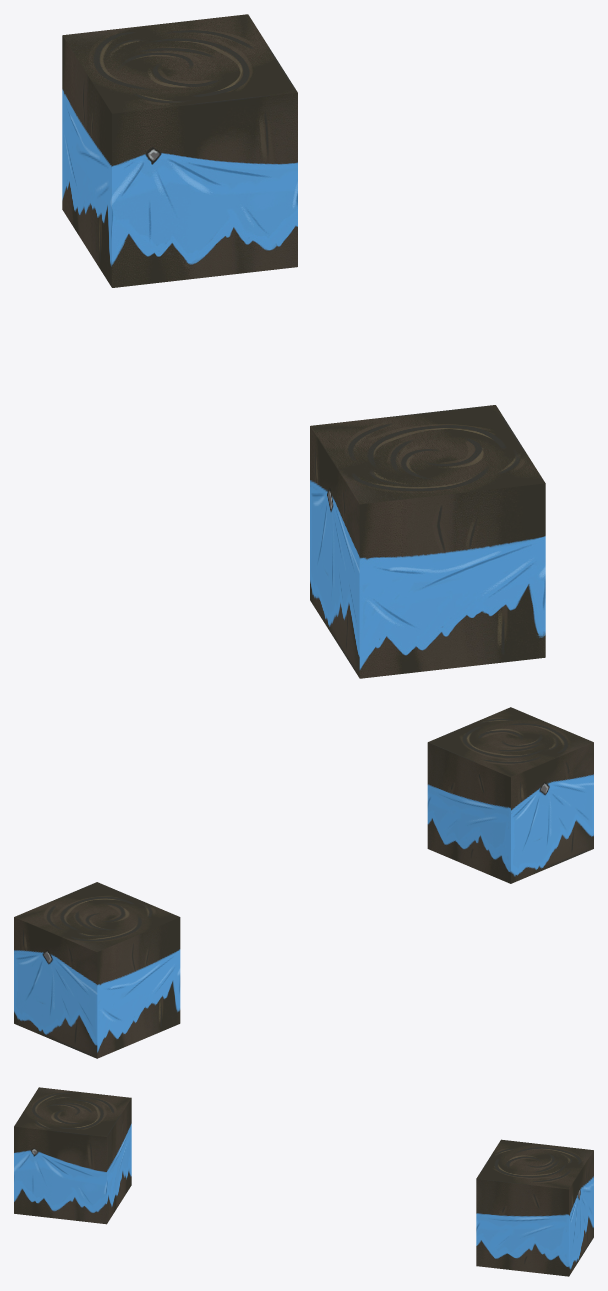
File: polysurface526_txt_cube1_0_lev1_lev2.glb
The picture shows the model from 3 angles, top to bottom: view 1: azimuth 30°, elevation 25°; view 2: azimuth 150°, elevation 25°; view 3: azimuth 270°, elevation 25°; orthographic projection. The views are drawn at different scales.
Parts seen in each view (by area): view 1: polysurface526_txt_cube1_0_lev1_lev2; view 2: polysurface526_txt_cube1_0_lev1_lev2; view 3: polysurface526_txt_cube1_0_lev1_lev2.
Part boxes in pixels (x1,y1,x2,y2): polysurface526_txt_cube1_0_lev1_lev2: [62, 14, 545, 678]; polysurface526_txt_cube1_0_lev1_lev2: [14, 707, 593, 1058]; polysurface526_txt_cube1_0_lev1_lev2: [14, 1087, 593, 1276].
Bounding box in the file's own units: 1.94 × 0.7719 × 4.65.
Materials: 1 (1 with a texture image).
